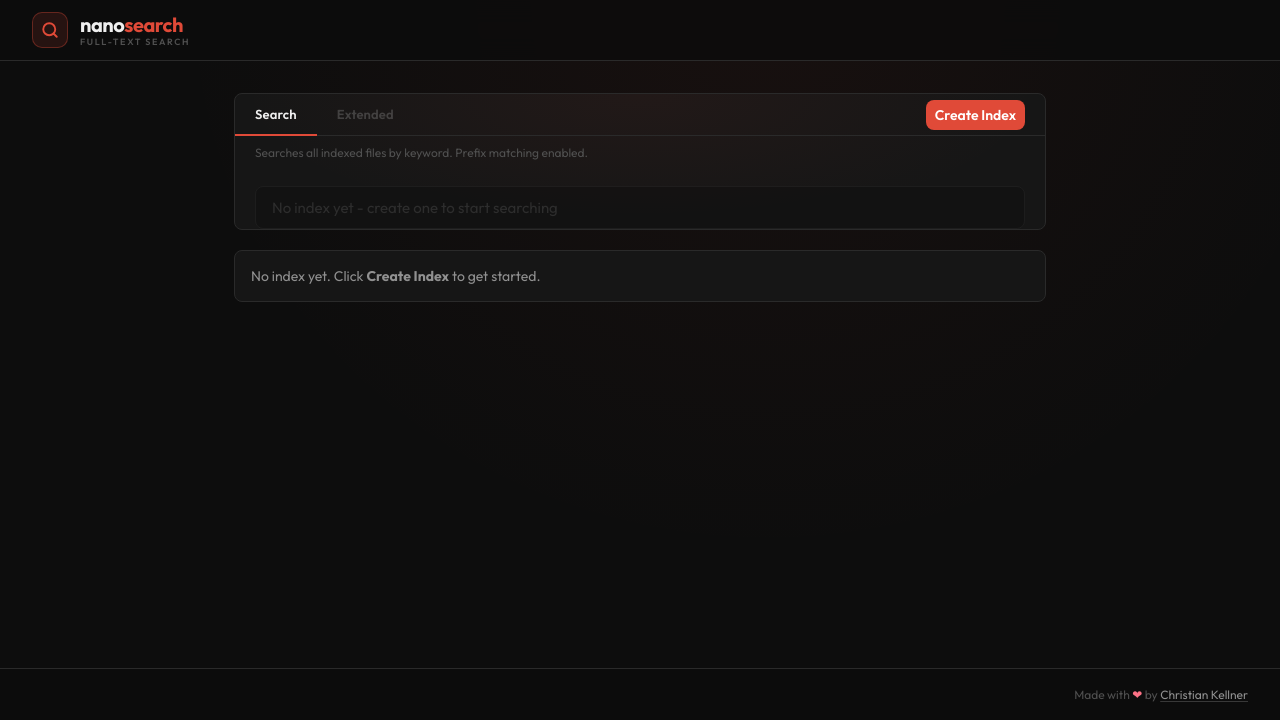
Scenario: App › does not get stuck in indexing when done event arrives before 202 response
Click the button "Create Index" at (975, 114), box [926,100,1025,130]
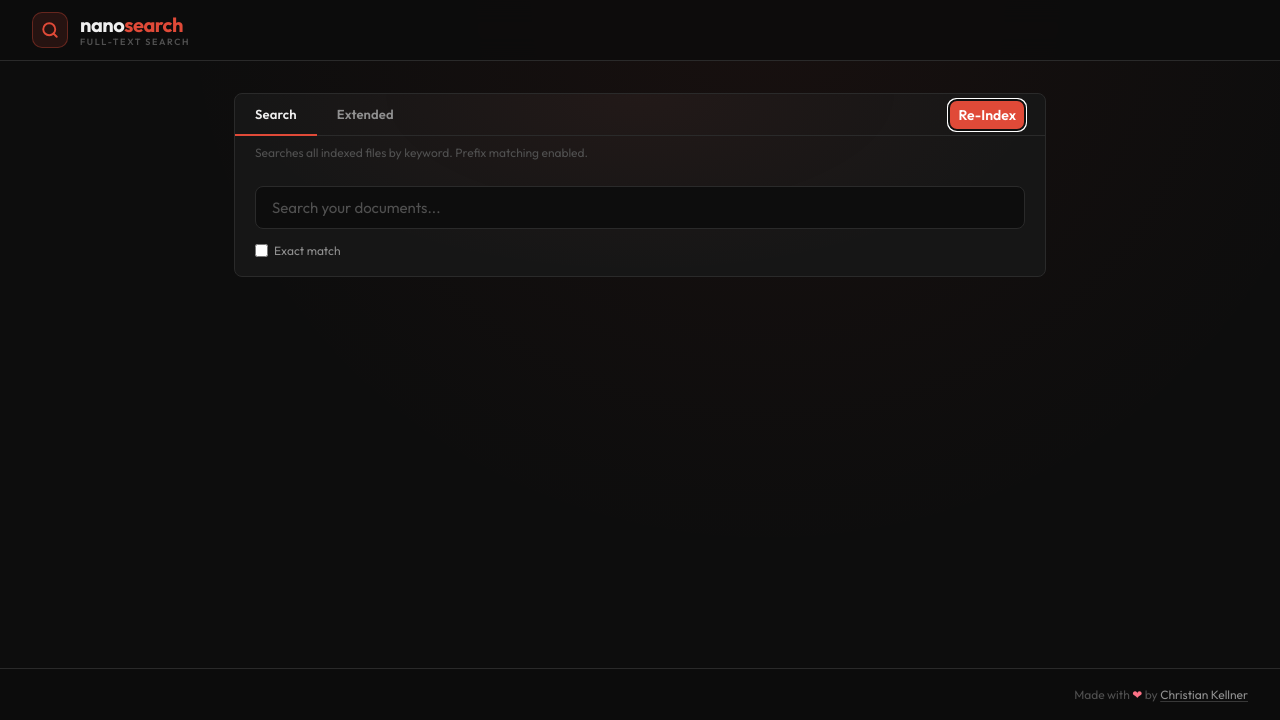
Result: the button "Re-Index" is shown at [949,100,1025,130]
